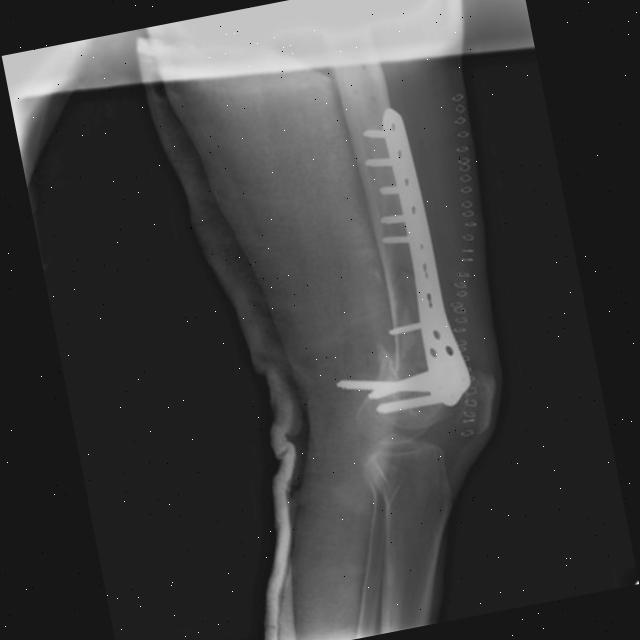Fracture: (375, 343, 409, 380), (386, 262, 416, 295)
